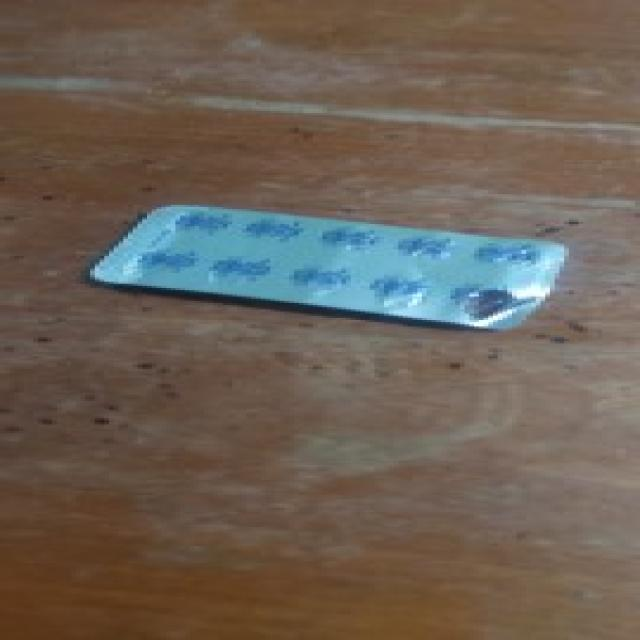Cacat: (85, 202, 562, 333)
Kemasan: (432, 276, 546, 325)
